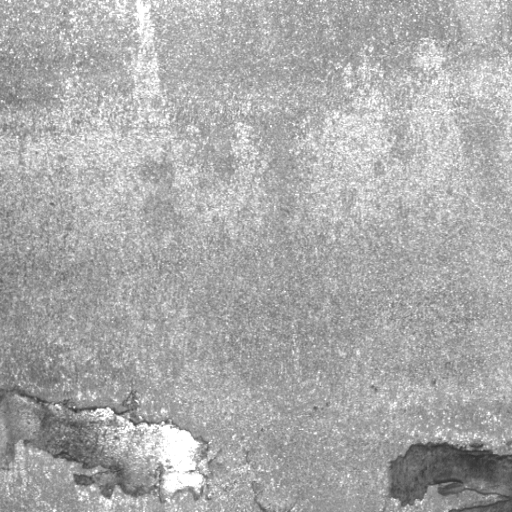aokeng: (383, 439, 512, 511)
qiaopi: (1, 386, 212, 500)
